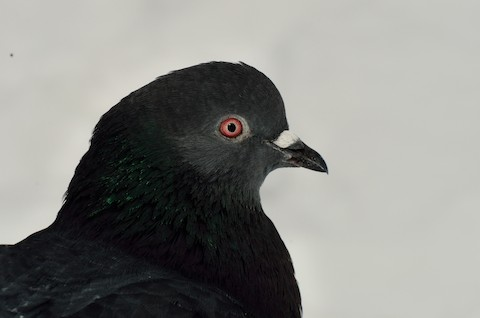pigeon: (2, 57, 331, 313)
